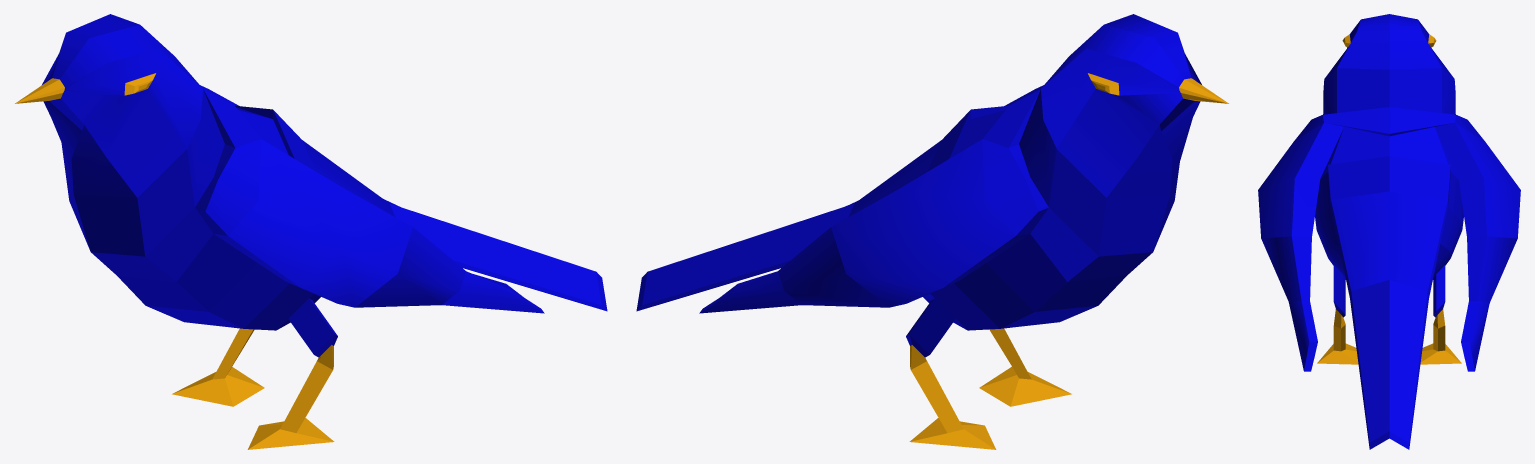
Rendered from Bird.fbx.
3 views of the same model, side by side, from view 1: azimuth 30°, elevation 25°; view 2: azimuth 150°, elevation 25°; view 3: azimuth 270°, elevation 25° (orthographic). The views are drawn at different scales.
Parts seen in each view (by area): view 1: Bird; view 2: Bird; view 3: Bird.
Boxes of the visible parts, box(x1,y1,x2,y2) form: Bird: box(15, 14, 607, 449); Bird: box(636, 14, 1228, 449); Bird: box(1258, 14, 1520, 449).
Size of the model in its own units: 46.39 by 31.48 by 26.04.
